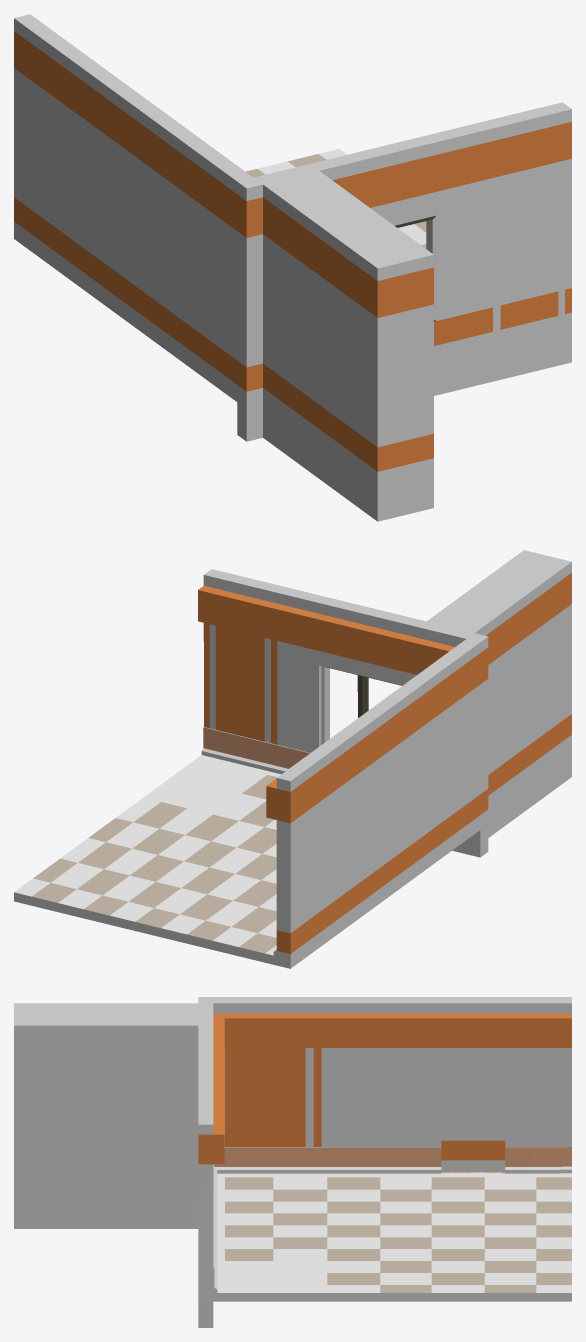
File: Floor.fbx
3 views of the same model, one above another, from view 1: azimuth 30°, elevation 25°; view 2: azimuth 150°, elevation 25°; view 3: azimuth 270°, elevation 25° (orthographic). The views are drawn at different scales.
Visible parts, largest first — view 1: wall; view 2: wall; view 3: wall.
Boxes of the visible parts, box(x1,y1,x2,y2) form: wall: box(14, 14, 571, 521); wall: box(14, 550, 571, 968); wall: box(14, 997, 571, 1327).
Bounding box in the file's own units: 3693 × 2748 × 6833.
